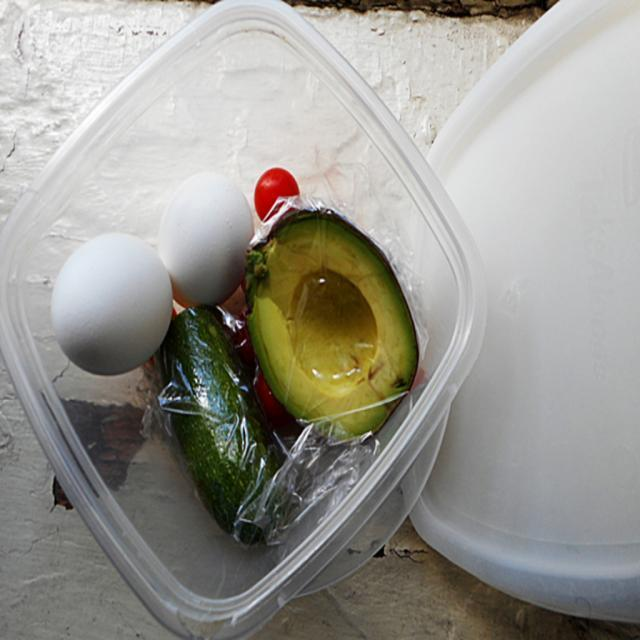Cucumber: (151, 306, 284, 544)
